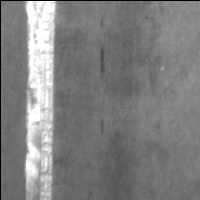inclusion: (95, 42, 109, 81)
scratches: (22, 1, 58, 200)
